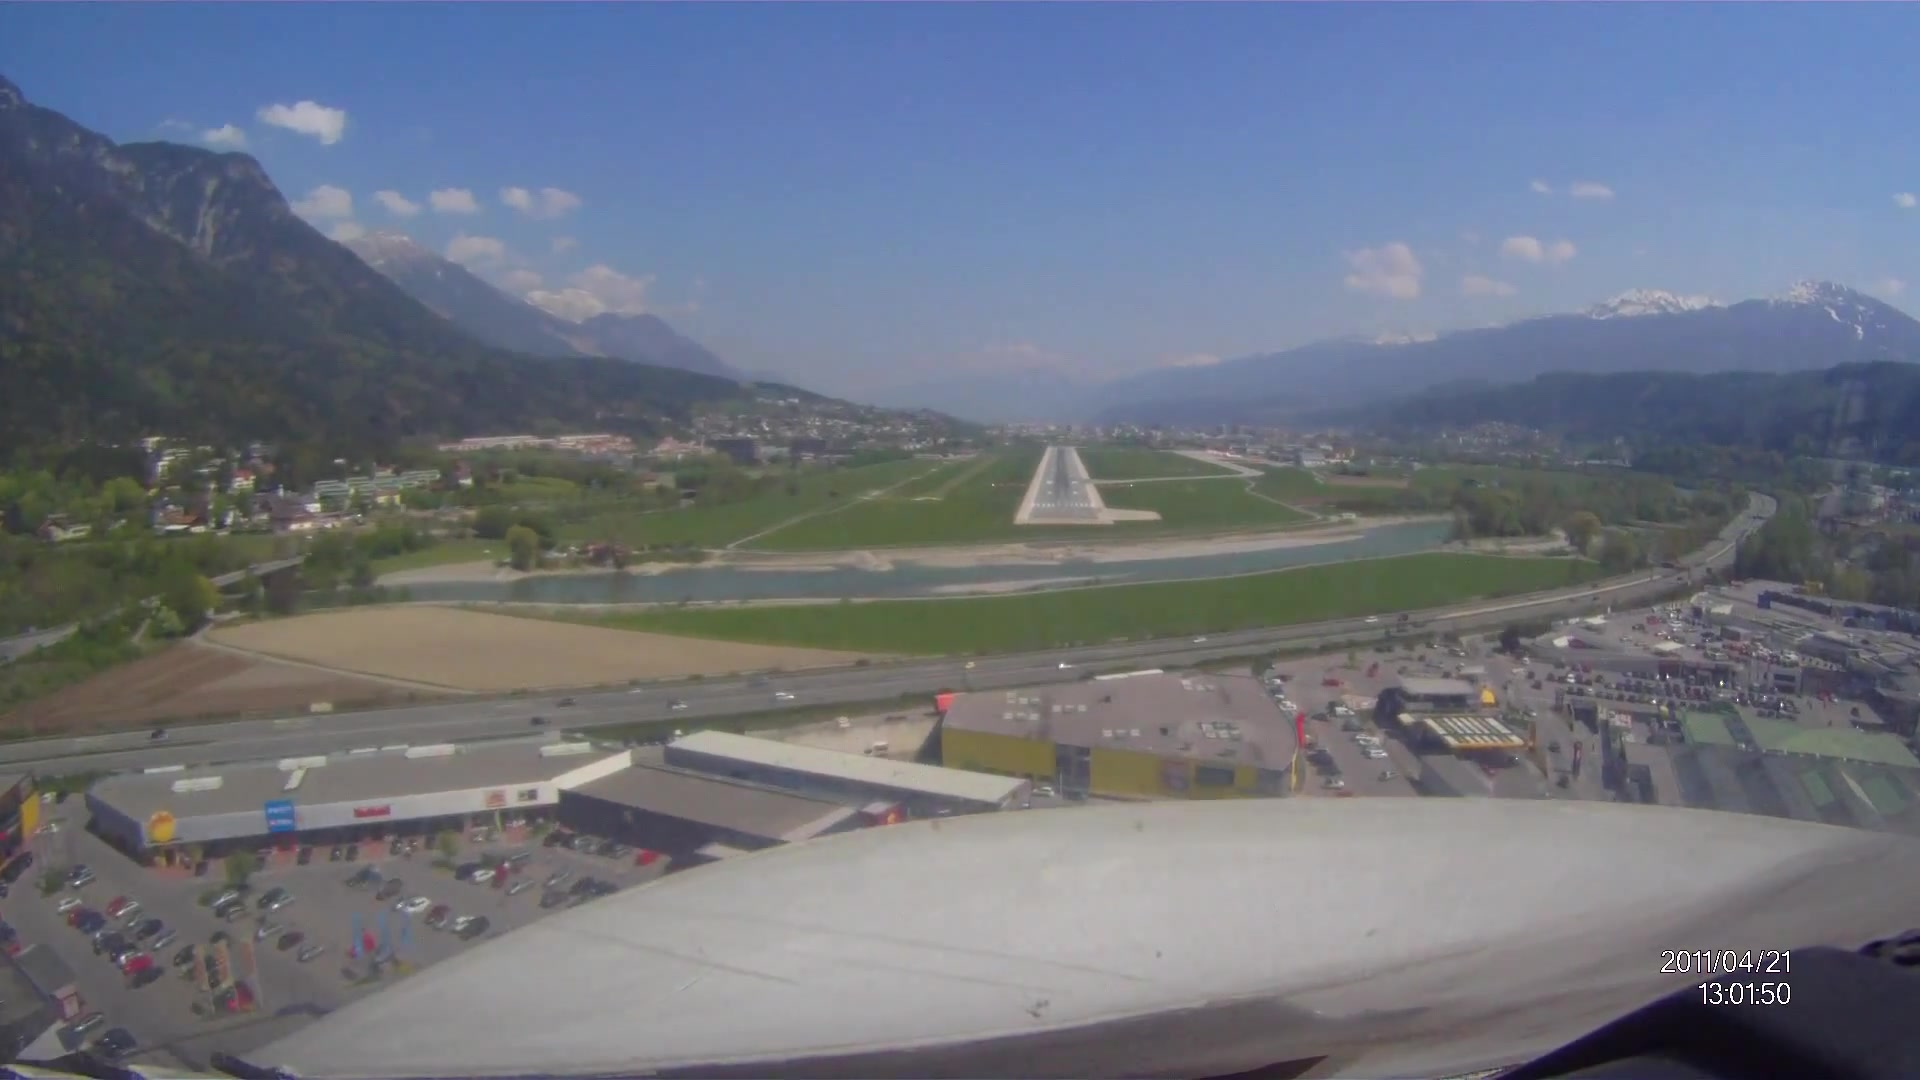entrance: (1029, 500, 1095, 508)
runway: (1026, 444, 1097, 509)
